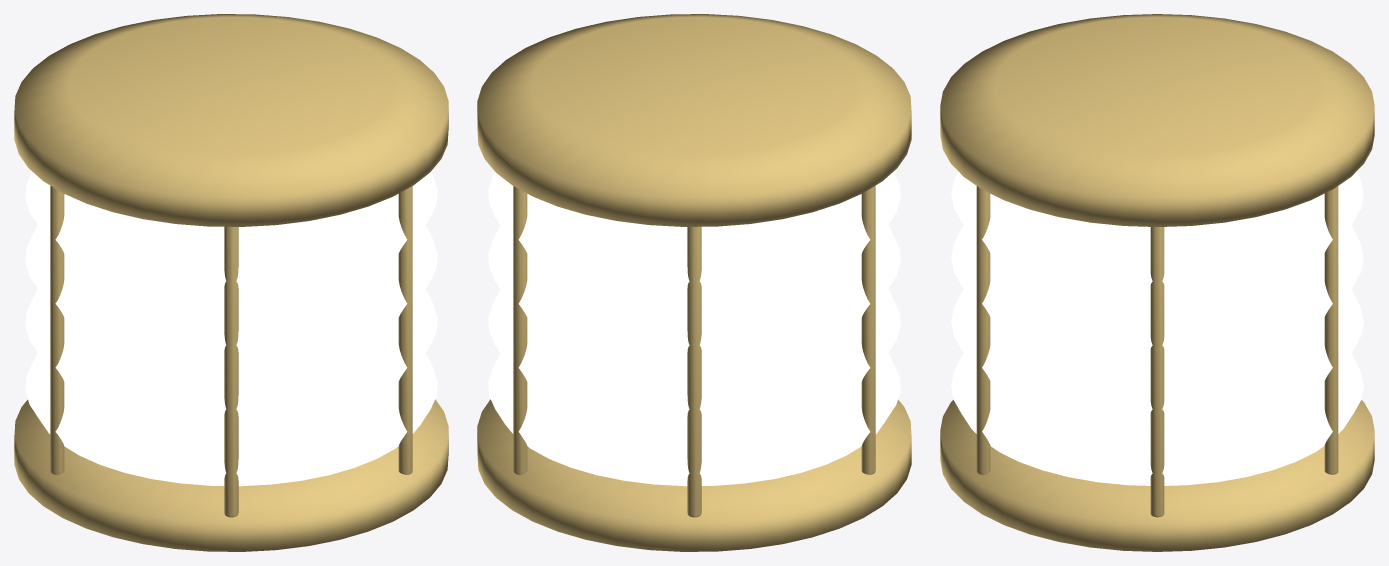
The model's file is fresnel_lens.glb.
The picture shows the model from 3 angles, left to right: view 1: azimuth 30°, elevation 25°; view 2: azimuth 150°, elevation 25°; view 3: azimuth 270°, elevation 25°; orthographic projection.
Visible parts, largest first — view 1: fresnel; view 2: fresnel; view 3: fresnel.
Boxes of the visible parts, box(x1,y1,x2,y2) form: fresnel: box(14, 14, 448, 551); fresnel: box(477, 14, 911, 551); fresnel: box(940, 14, 1374, 551).
Bounding box in the file's own units: 0.8 × 0.8 × 0.8.
